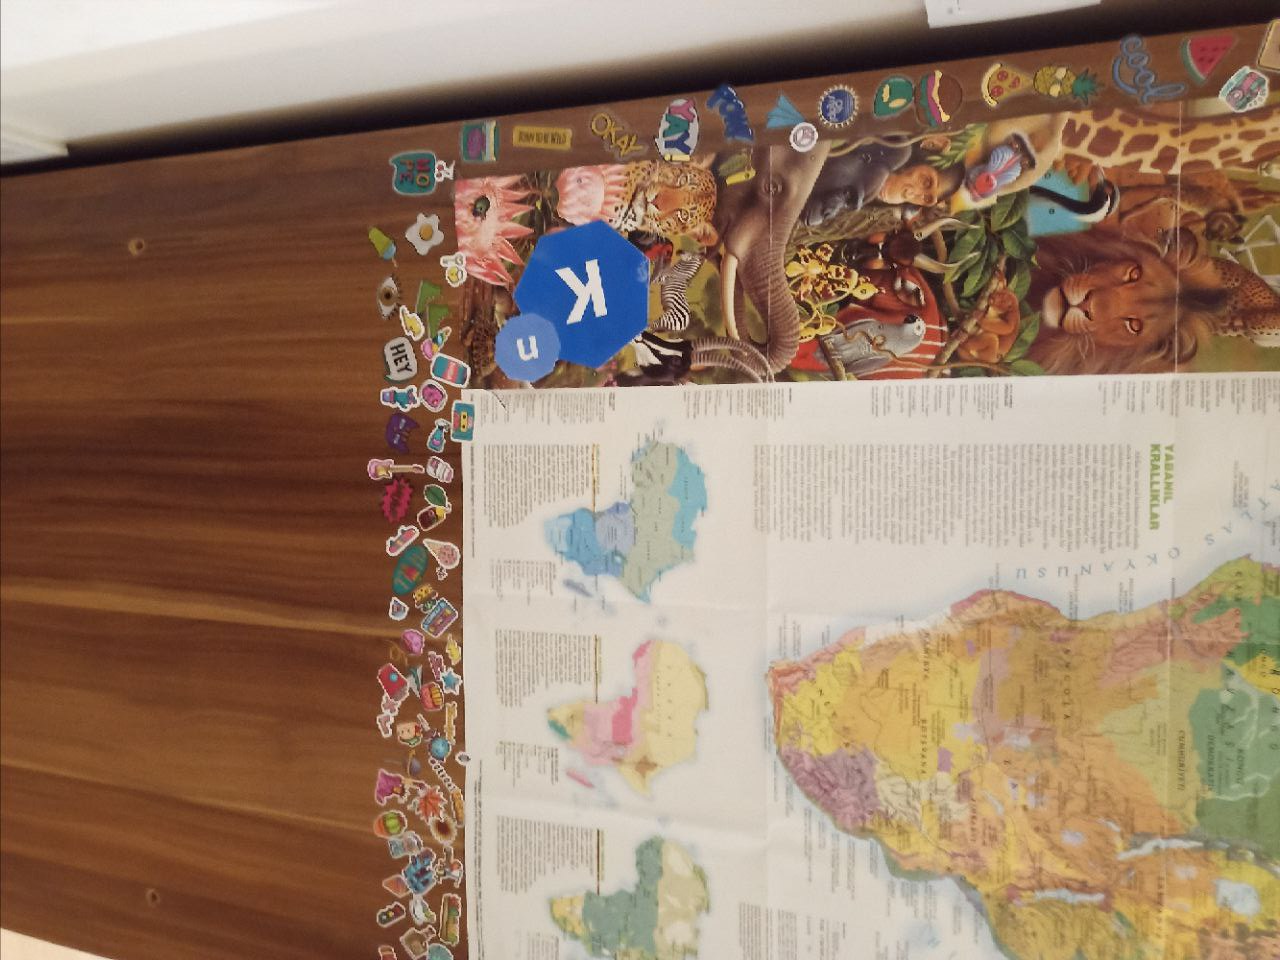knative: (495, 223, 647, 384)
